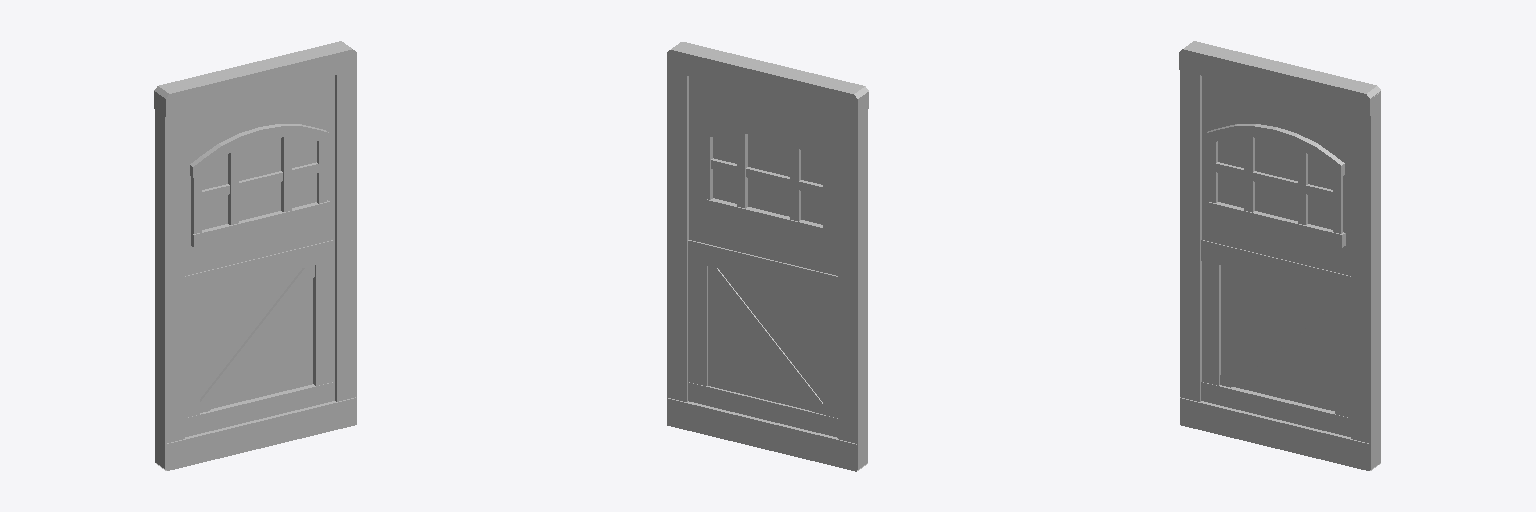
File: Door_1_Flat.obj
The picture shows the model from 3 angles: view 1: azimuth 30°, elevation 25°; view 2: azimuth 150°, elevation 25°; view 3: azimuth 330°, elevation 25°; orthographic projection.
Parts seen in each view (by area): view 1: Door_1_Flat; view 2: Door_1_Flat; view 3: Door_1_Flat.
Part boxes in pixels (left/top/right/bottom): Door_1_Flat: left=154, top=41, right=356, bottom=470; Door_1_Flat: left=667, top=42, right=868, bottom=471; Door_1_Flat: left=1179, top=41, right=1380, bottom=470.
Bounding box in the file's own units: 1.12 × 2.1 × 0.1207.